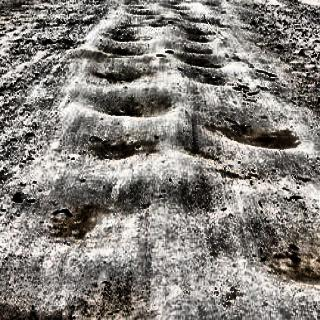pothole: (38, 183, 119, 249), (255, 211, 320, 289), (213, 111, 295, 158), (81, 123, 155, 173), (94, 84, 168, 121), (88, 54, 160, 89), (181, 67, 234, 94), (100, 42, 150, 62), (175, 50, 220, 72), (178, 22, 216, 44), (106, 30, 154, 44), (182, 42, 214, 55)
